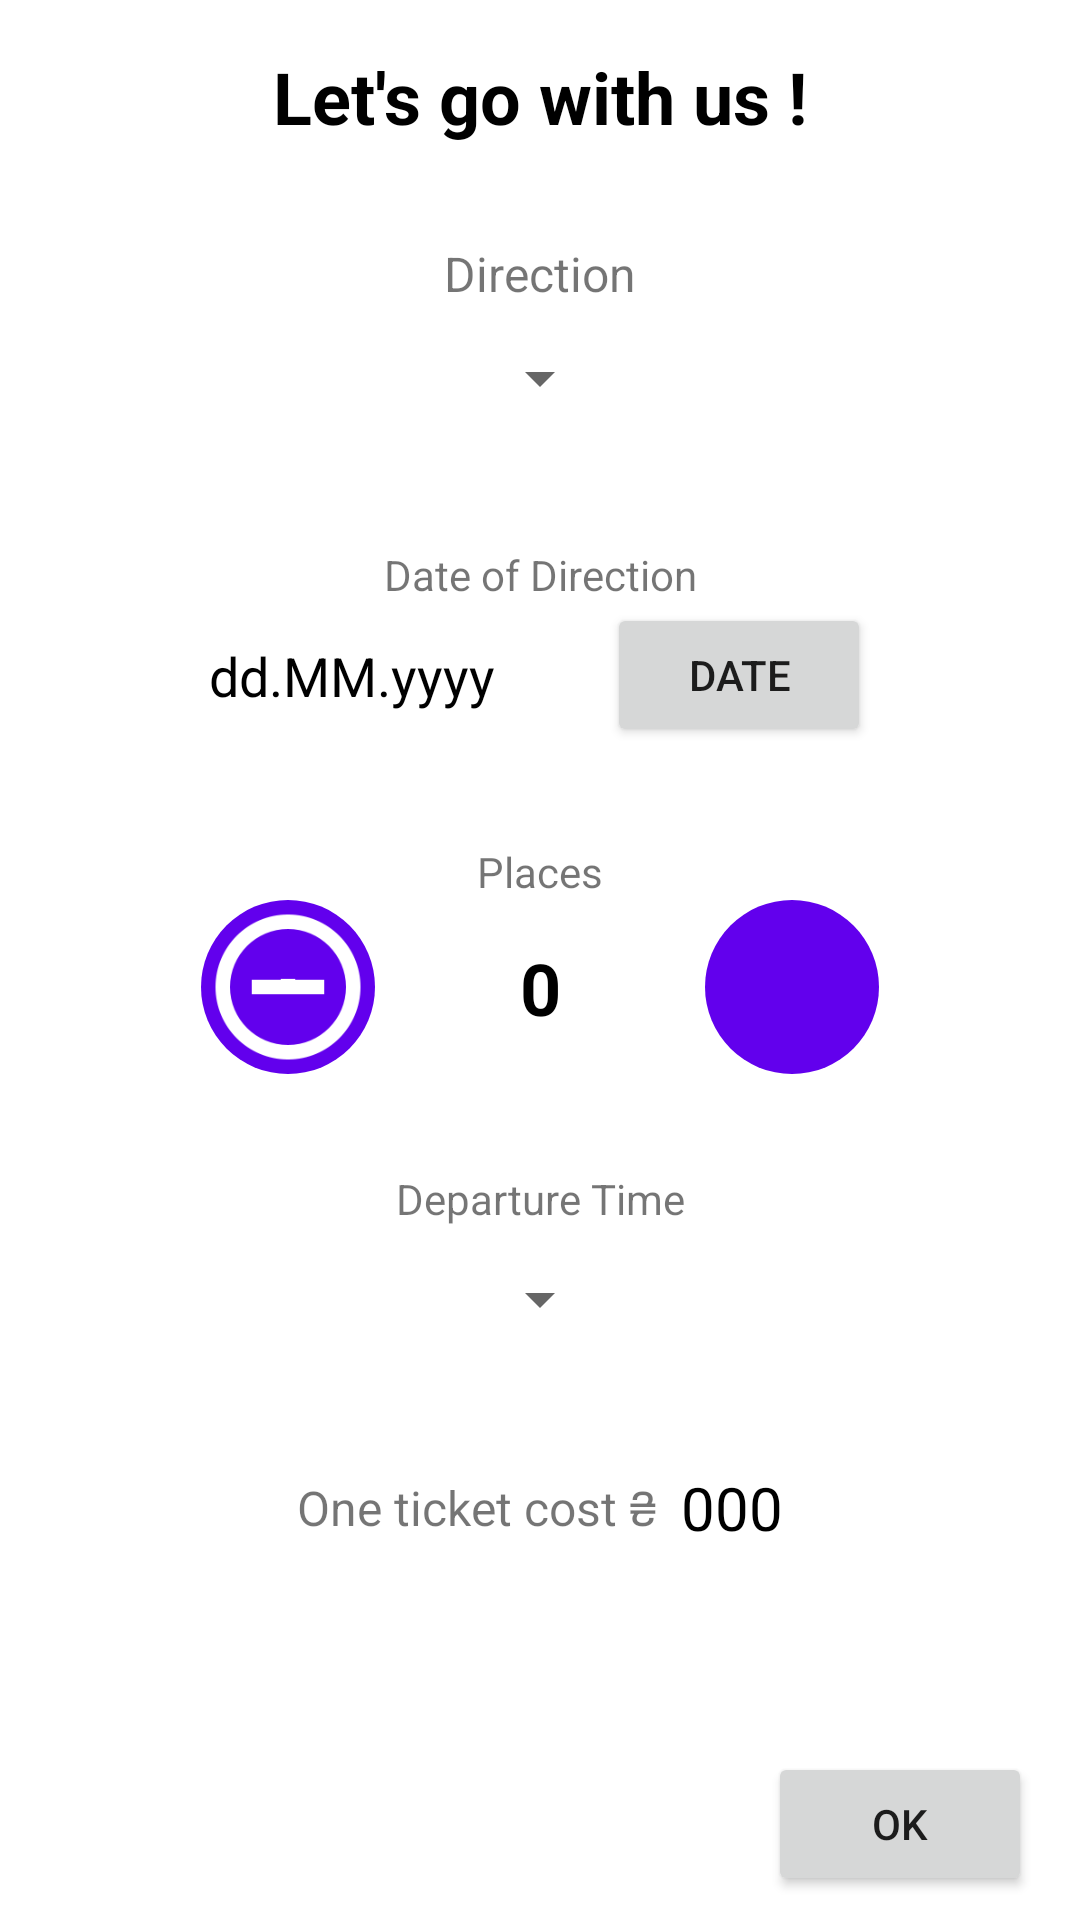

Screen size 1080×1920. Icon name, then its center in pixels as [x,y]:
minus circle: [288,987]
